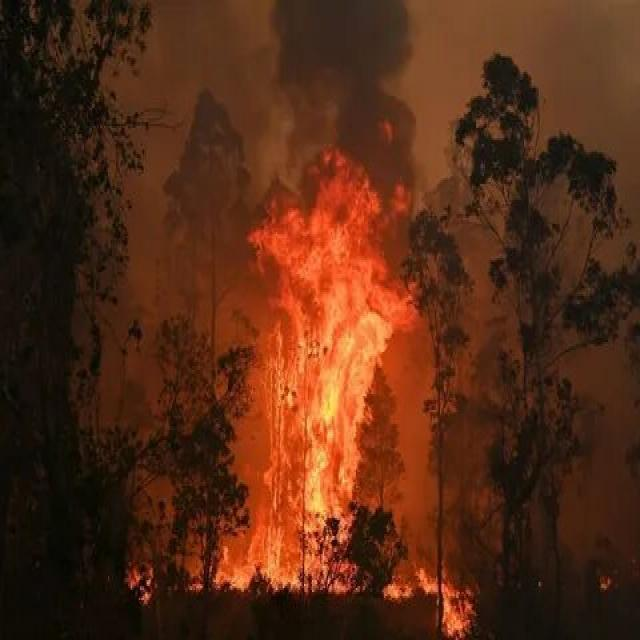Fire: (208, 153, 438, 619)
Smoke: (52, 0, 244, 423)
